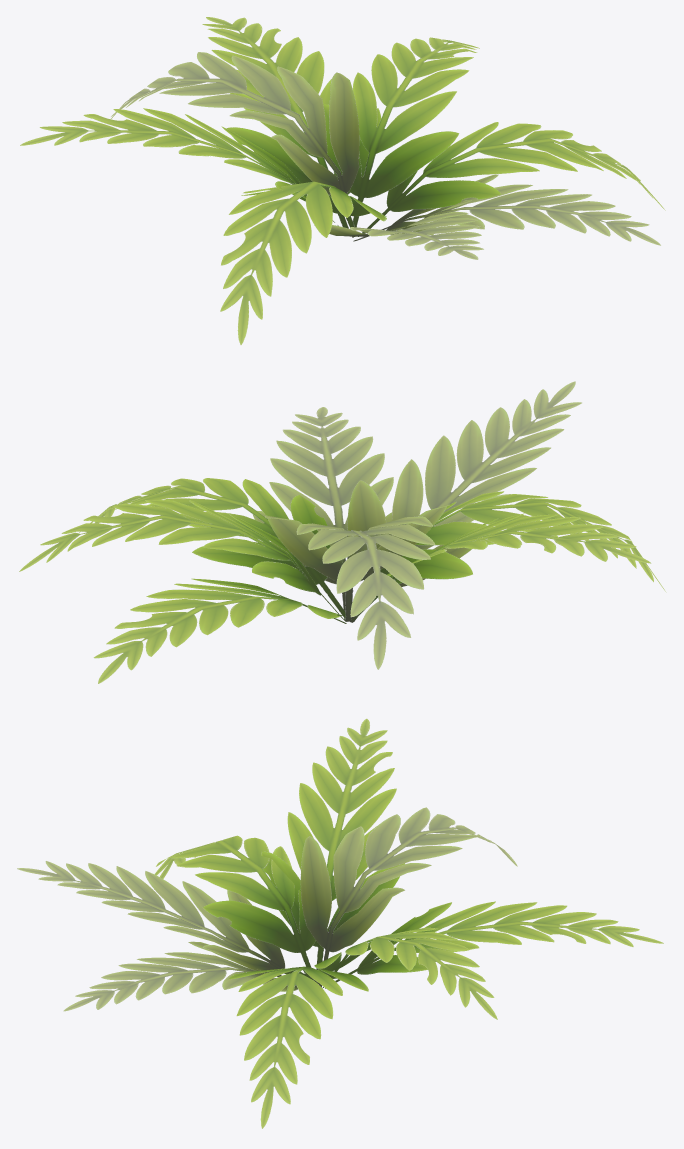
File: Prefab_Fern_01_Detail (15).fbx
3 views of the same model, one above another, from view 1: azimuth 30°, elevation 25°; view 2: azimuth 150°, elevation 25°; view 3: azimuth 270°, elevation 25° (orthographic). The views are drawn at different scales.
Parts seen in each view (by area): view 1: Prefab_Fern_01_Detail__15_; view 2: Prefab_Fern_01_Detail__15_; view 3: Prefab_Fern_01_Detail__15_.
Part boxes in pixels (x1=…): Prefab_Fern_01_Detail__15_: x1=20, y1=17, x2=665, y2=344; Prefab_Fern_01_Detail__15_: x1=19, y1=381, x2=666, y2=683; Prefab_Fern_01_Detail__15_: x1=17, y1=718, x2=663, y2=1128.
Size of the model in its own units: 313 by 87.67 by 329.
Materials: 1 (1 with a texture image).
